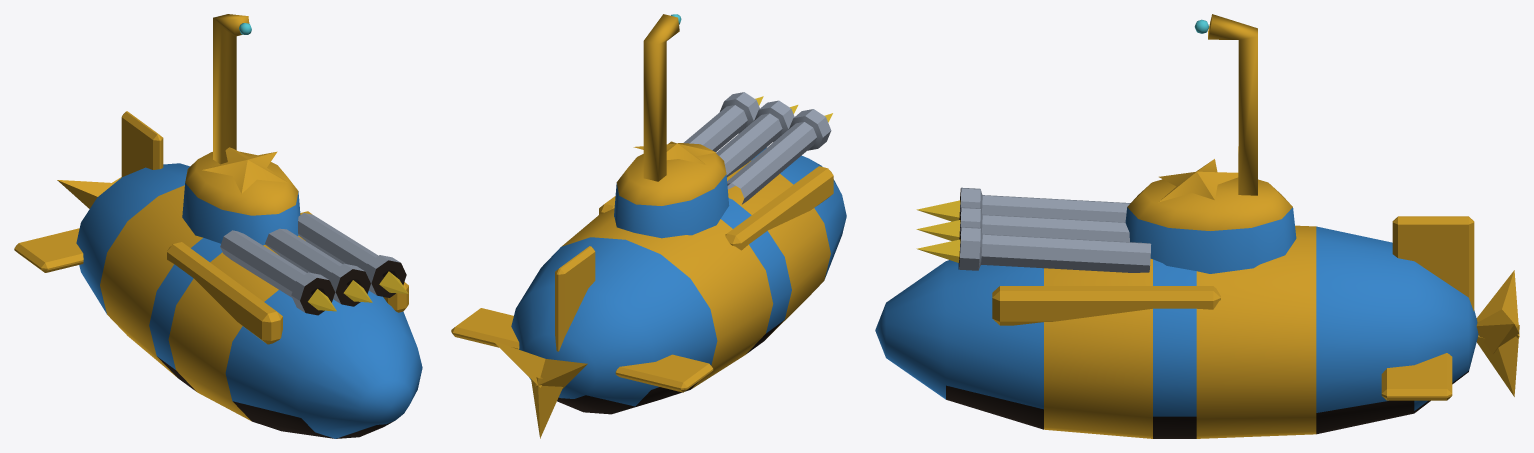
3 views of the same model, side by side, from view 1: azimuth 30°, elevation 25°; view 2: azimuth 150°, elevation 25°; view 3: azimuth 270°, elevation 25° (orthographic). The views are drawn at different scales.
Visible parts, largest first — view 1: submarino_0_base, submarino_1_torreta; view 2: submarino_0_base, submarino_1_torreta; view 3: submarino_0_base, submarino_1_torreta.
Part boxes in pixels (x1,y1,x2,y2): submarino_0_base: (14, 111, 422, 438); submarino_1_torreta: (182, 14, 408, 315); submarino_0_base: (451, 147, 846, 438); submarino_1_torreta: (614, 14, 832, 238); submarino_0_base: (875, 216, 1519, 438); submarino_1_torreta: (916, 14, 1296, 273).
Size of the model in its own units: 0.58 by 0.8253 by 1.18.
